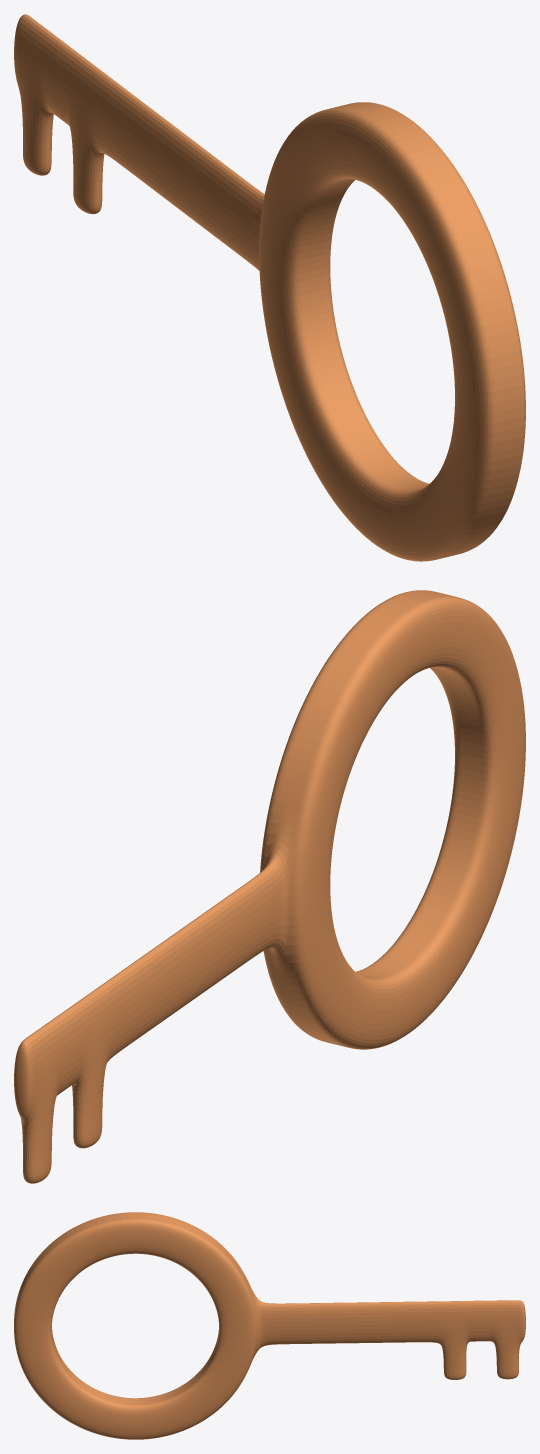
File: Key1Outline.fbx
3 views of the same model, one above another, from view 1: azimuth 30°, elevation 25°; view 2: azimuth 150°, elevation 25°; view 3: azimuth 270°, elevation 25° (orthographic). The views are drawn at different scales.
Visible parts, largest first — view 1: Cylinder.001; view 2: Cylinder.001; view 3: Cylinder.001.
Part boxes in pixels (left/top/right/bottom): Cylinder.001: left=14, top=14, right=525, bottom=561; Cylinder.001: left=14, top=590, right=525, bottom=1183; Cylinder.001: left=14, top=1212, right=525, bottom=1439.
Bounding box in the file's own units: 23.36 × 195 × 411.
